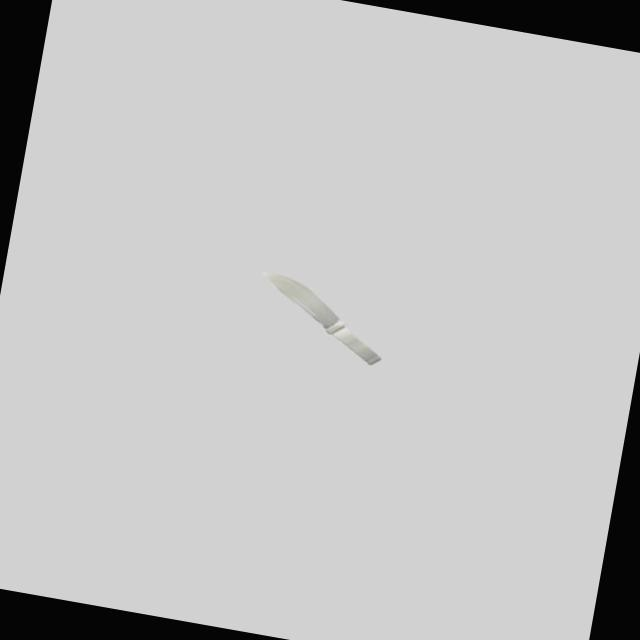knife: (324, 322, 386, 365)
